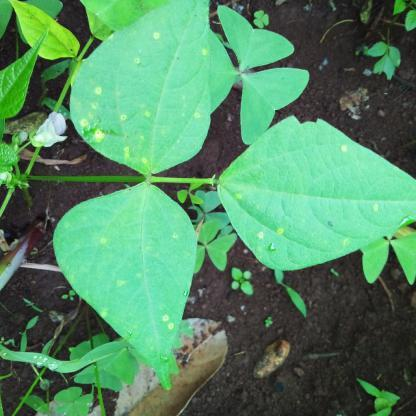Beans_Rust: (216, 118, 416, 272), (53, 183, 198, 391), (70, 0, 211, 173)
